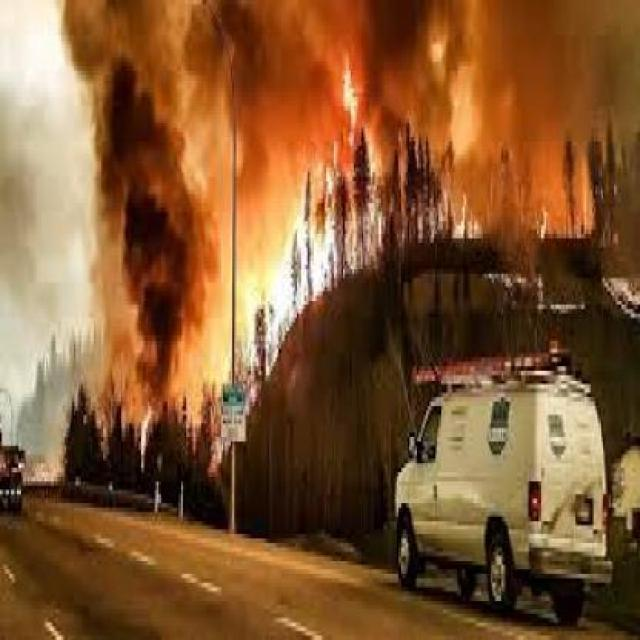Fire: (178, 126, 402, 397)
Smoke: (130, 0, 639, 238), (0, 0, 226, 342)
